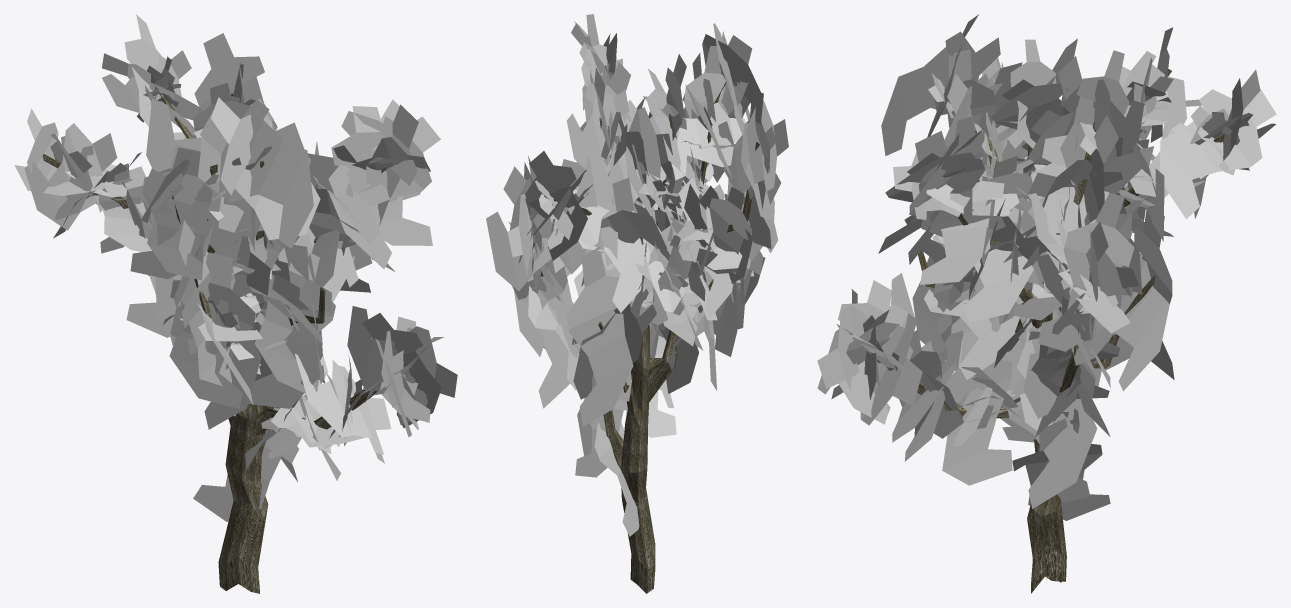
Rendered from Tree03.fbx.
The picture shows the model from 3 angles, left to right: view 1: azimuth 30°, elevation 25°; view 2: azimuth 150°, elevation 25°; view 3: azimuth 270°, elevation 25°; orthographic projection. The views are drawn at different scales.
Parts seen in each view (by area): view 1: arbol003.007; view 2: arbol003.007; view 3: arbol003.007.
Part boxes in pixels (x1,y1,x2,y2): arbol003.007: [14, 14, 457, 593]; arbol003.007: [486, 14, 788, 593]; arbol003.007: [817, 14, 1276, 593].
Bounding box in the file's own units: 14.21 × 24.05 × 18.33.
